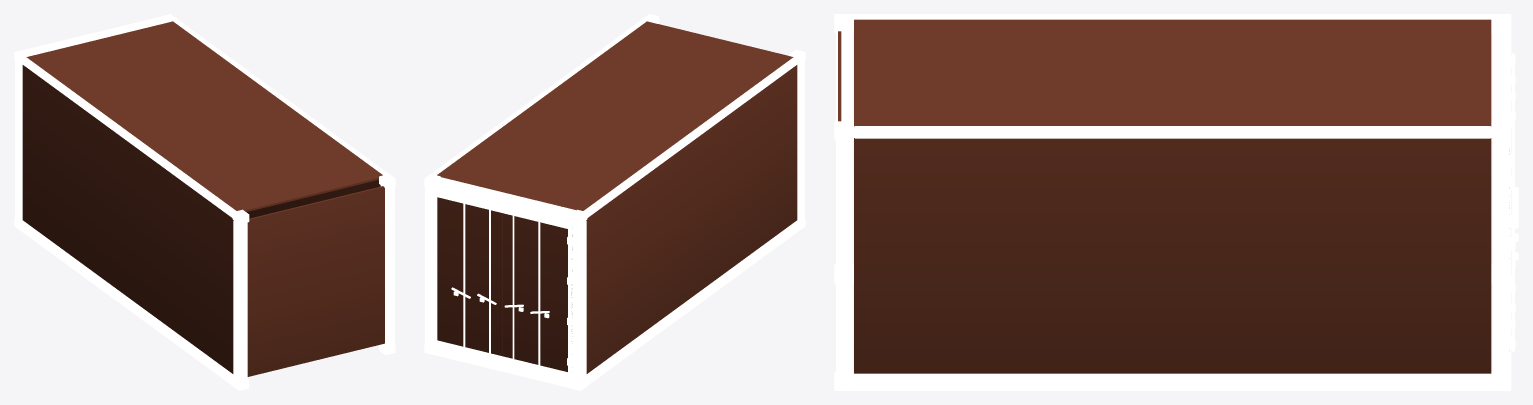
Rendered from iso_container_20_rust.glb.
3 views of the same model, side by side, from view 1: azimuth 30°, elevation 25°; view 2: azimuth 150°, elevation 25°; view 3: azimuth 270°, elevation 25° (orthographic). The views are drawn at different scales.
Parts seen in each view (by area): view 1: iso_container_20_rust_LOD0; view 2: iso_container_20_rust_LOD0; view 3: iso_container_20_rust_LOD0.
Boxes of the visible parts, x1,y1,x2,y2 form: iso_container_20_rust_LOD0: (14,14,395,390); iso_container_20_rust_LOD0: (424,14,805,390); iso_container_20_rust_LOD0: (834,14,1518,390).
Size of what is drawn, in the model's own units: 2.44 by 2.59 by 6.13.
